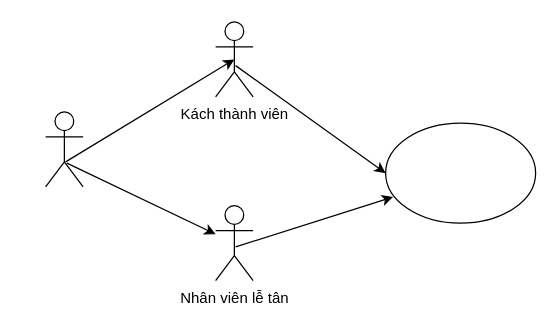
The diagram is 558 pixels wide and 329 high, and some of its shapes have lost their labels. Each missing label, with the centre of its shape:
"Quản trị viên" goes at pixel 63 149.
"Đăng nhập" goes at pixel 460 172.
